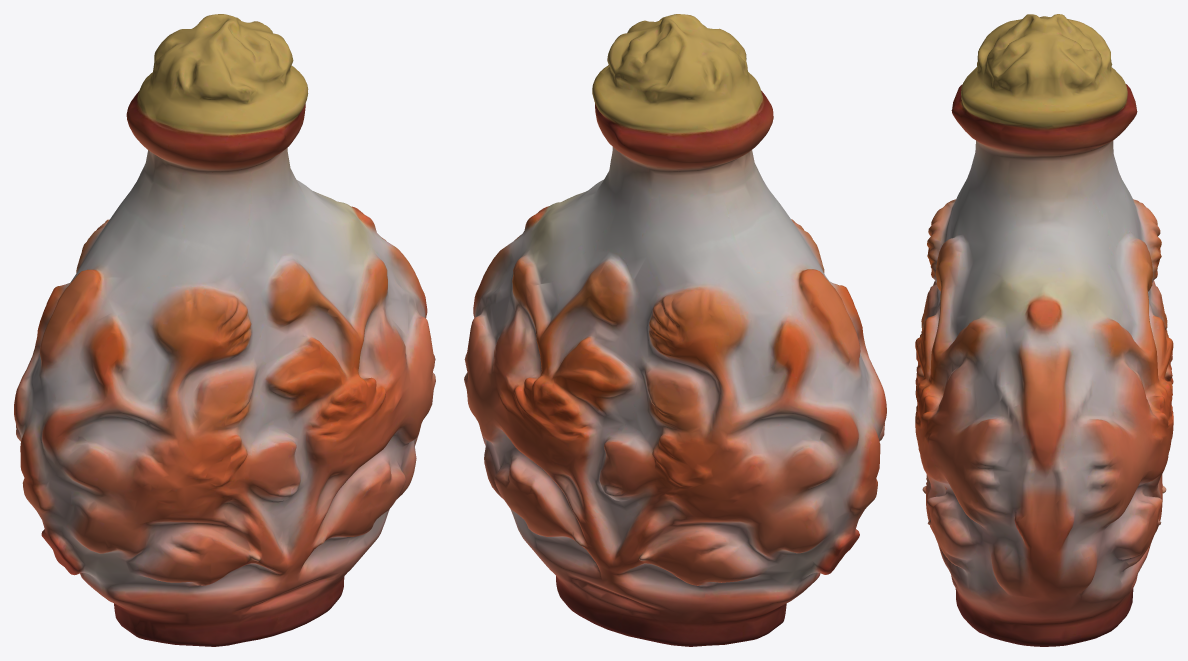
The model's file is 粉彩百蝶 描金云蝠纹海棠形包袱瓶 .glb.
3 renders of one model, left to right at view 1: azimuth 30°, elevation 25°; view 2: azimuth 150°, elevation 25°; view 3: azimuth 270°, elevation 25°, orthographic.
Parts seen in each view (by area): view 1: tripo_node_77c79ded; view 2: tripo_node_77c79ded; view 3: tripo_node_77c79ded.
Part boxes in pixels (bbox=[...]): tripo_node_77c79ded: bbox=[14, 14, 435, 646]; tripo_node_77c79ded: bbox=[464, 14, 886, 646]; tripo_node_77c79ded: bbox=[915, 14, 1173, 646].
Bounding box in the file's own units: 69.12 × 97.81 × 39.01.
Materials: 1 (1 with a texture image).
